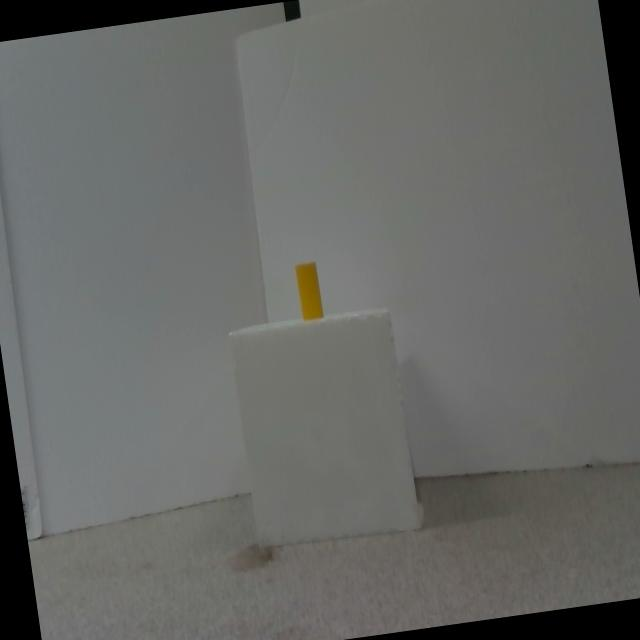yellow_cylinder: (296, 262, 324, 321)
